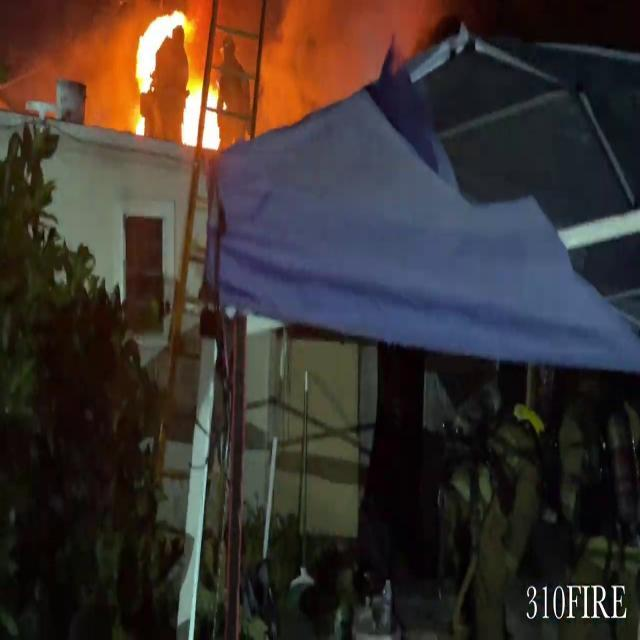Fire: (125, 3, 225, 153)
